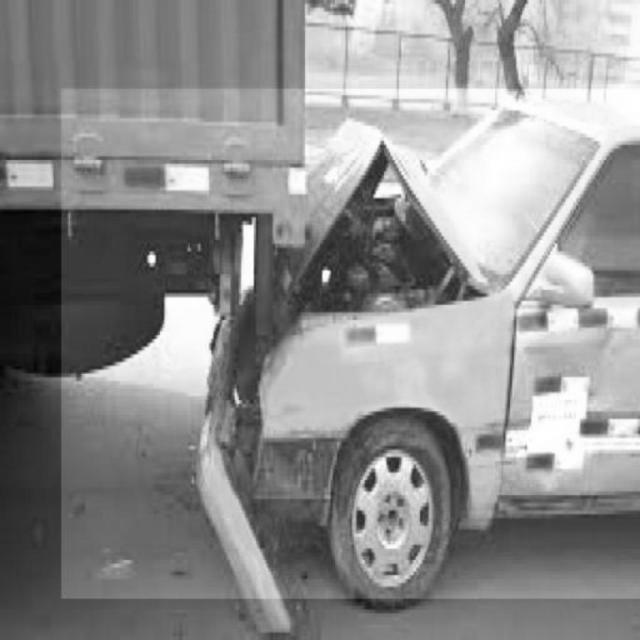accident: (62, 89, 640, 599)
